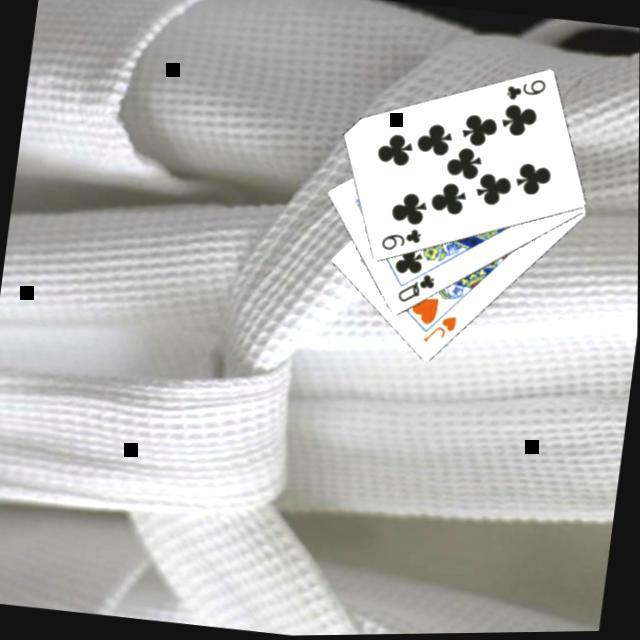9C: (378, 222, 425, 258), (503, 73, 550, 109)
JH: (419, 310, 461, 349)
QC: (394, 268, 440, 310)
